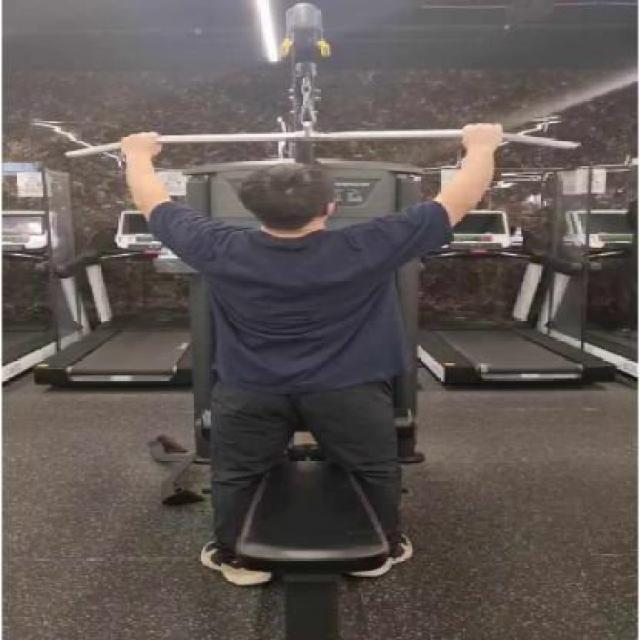Lat Pull Down: (40, 0, 598, 640)
